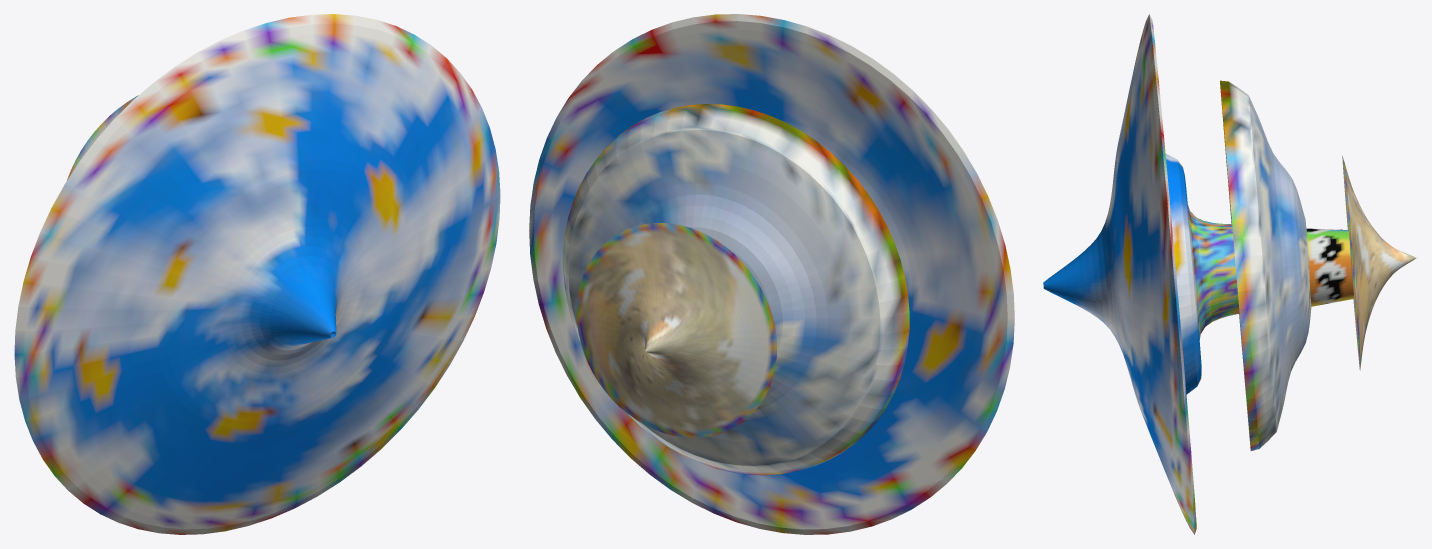
File: april28outdoorpagoda16.glb
The picture shows the model from 3 angles, left to right: view 1: azimuth 30°, elevation 25°; view 2: azimuth 150°, elevation 25°; view 3: azimuth 270°, elevation 25°; orthographic projection. The views are drawn at different scales.
Visible parts, largest first — view 1: Lathe 4; view 2: Lathe 4, Lathe 3, Lathe; view 3: Lathe 4, Lathe 3, Lathe, Lathe.001.
Boxes of the visible parts, box(x1,y1,x2,y2) form: Lathe 4: box(14, 14, 500, 534); Lathe 4: box(529, 14, 1014, 534); Lathe 3: box(563, 104, 909, 475); Lathe: box(576, 223, 776, 437); Lathe 4: box(1043, 14, 1239, 534); Lathe 3: box(1220, 80, 1311, 450); Lathe: box(1342, 156, 1416, 370); Lathe.001: box(1306, 228, 1354, 306).
Size of the model in its own units: 3.74 by 3.73 by 2.68.
